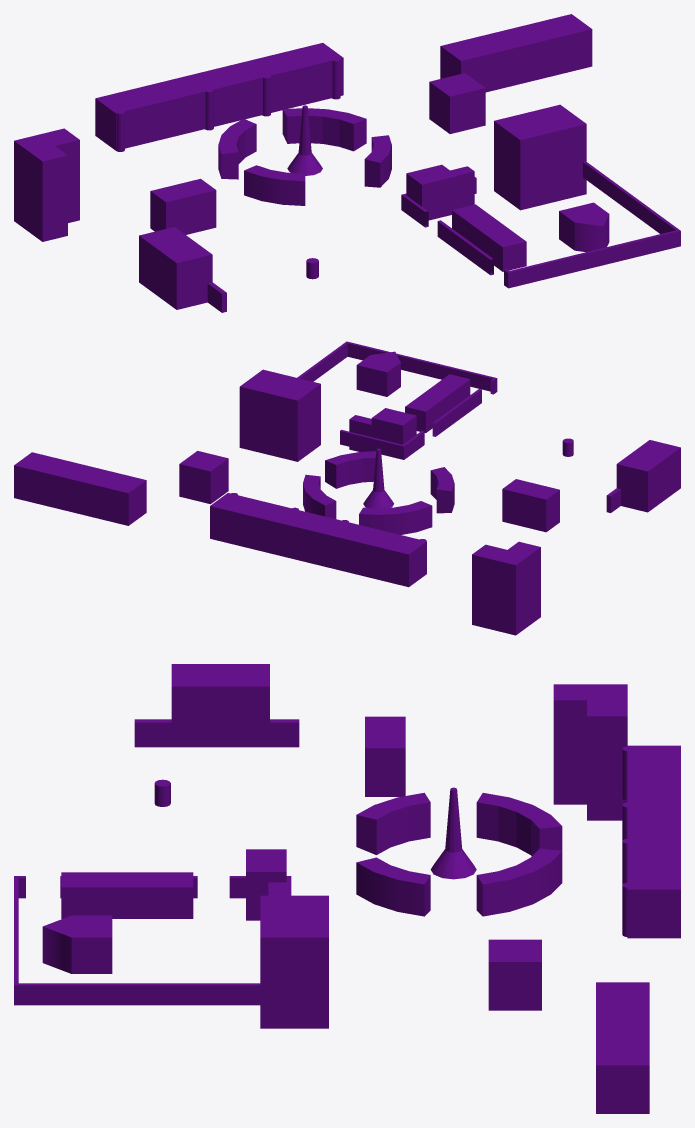
Rendered from collision_map_proto_a.FBX.
The picture shows the model from 3 angles, top to bottom: view 1: azimuth 30°, elevation 25°; view 2: azimuth 150°, elevation 25°; view 3: azimuth 270°, elevation 25°; orthographic projection. The views are drawn at different scales.
Parts seen in each view (by area): view 1: Box1144, Box1139, Box1140, Cylinder1641, Box1149, Box1147, Box1137, Box1148, Box1136, Box1145, Box1127, Box1146 (+4 smaller); view 2: Box1144, Box1140, Box1139, Box1149, Cylinder1641, Box1147, Box1148, Box1137, Box1138, Box1136, Box1145, Box1146 (+3 smaller); view 3: Cylinder1641, Box1144, Box1149, Box1139, Box1147, Box1140, Box1137, Box1145, Box1136, Box1146, Box1148, Box1150 (+3 smaller).
Boxes of the visible parts, x1,y1,x2,y2 form: Box1144: (95,43,343,150); Box1139: (494,104,586,210); Box1140: (440,14,592,92); Cylinder1641: (218,108,391,205); Box1149: (14,128,79,241); Box1147: (139,227,212,309); Box1137: (510,161,680,287); Box1148: (150,178,216,234); Box1136: (429,73,485,133); Box1145: (452,204,526,271); Box1127: (406,164,457,220); Box1146: (559,202,609,251); Box1144: (210,493,426,587); Box1140: (14,452,146,525); Box1139: (239,369,320,461); Box1149: (472,541,540,635); Cylinder1641: (303,451,454,534); Box1147: (616,440,680,512); Box1148: (502,479,559,532); Box1137: (297,341,494,391); Box1138: (340,377,497,459); Box1136: (179,451,228,504); Box1145: (405,374,470,432); Box1146: (356,351,400,396); Cylinder1641: (356,792,562,916); Box1144: (627,745,680,938); Box1149: (553,684,627,820); Box1139: (260,895,328,1028); Box1147: (171,664,269,747); Box1140: (596,982,649,1113); Box1137: (14,877,260,1005); Box1145: (61,872,193,918); Box1136: (488,939,541,1010); Box1146: (42,915,112,973); Box1148: (365,716,405,796); Box1150: (134,719,299,747).
Size of the model in its own units: 106 by 19.07 by 81.51.
